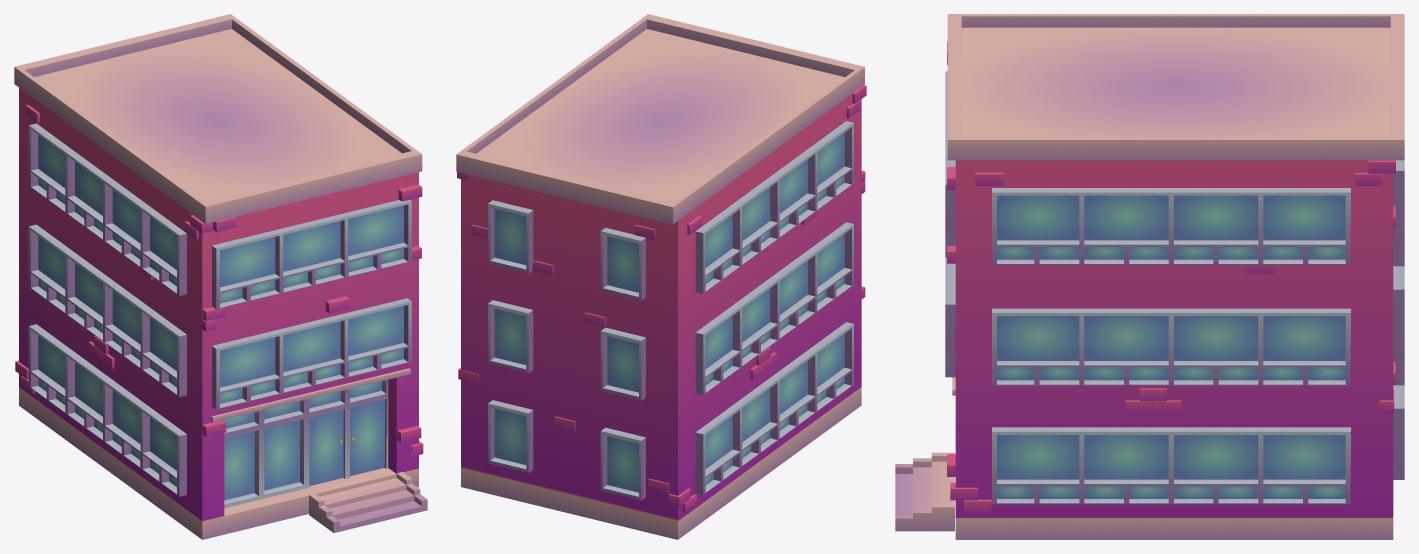
File: SM_3F_R_Windowed_02.fbx
The picture shows the model from 3 angles, left to right: view 1: azimuth 30°, elevation 25°; view 2: azimuth 150°, elevation 25°; view 3: azimuth 270°, elevation 25°; orthographic projection. The views are drawn at different scales.
Parts seen in each view (by area): view 1: SM_3F_R_Windowed_02; view 2: SM_3F_R_Windowed_02; view 3: SM_3F_R_Windowed_02.
Boxes of the visible parts, x1,y1,x2,y2 form: SM_3F_R_Windowed_02: (14, 14, 427, 539); SM_3F_R_Windowed_02: (456, 14, 866, 539); SM_3F_R_Windowed_02: (895, 14, 1404, 539).
Size of the model in its own units: 7.96 by 12.7 by 11.02.
